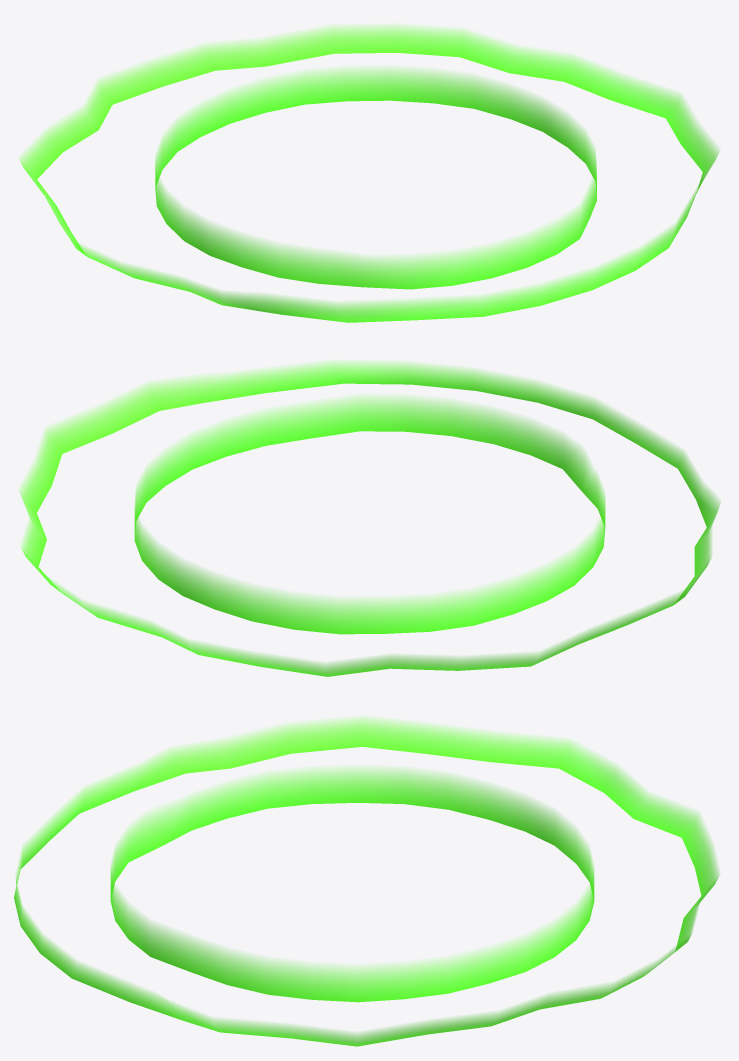
File: LavaLight.glb
The picture shows the model from 3 angles, top to bottom: view 1: azimuth 30°, elevation 25°; view 2: azimuth 150°, elevation 25°; view 3: azimuth 270°, elevation 25°; orthographic projection. The views are drawn at different scales.
Visible parts, largest first — view 1: LavaLight; view 2: LavaLight; view 3: LavaLight.
Part boxes in pixels (bbox=[...]): LavaLight: bbox=[19, 25, 719, 322]; LavaLight: bbox=[19, 361, 720, 676]; LavaLight: bbox=[14, 717, 719, 1046].
Size of the model in its own units: 70.7 by 5.17 by 66.36.
Materials: 1 (1 with a texture image).
